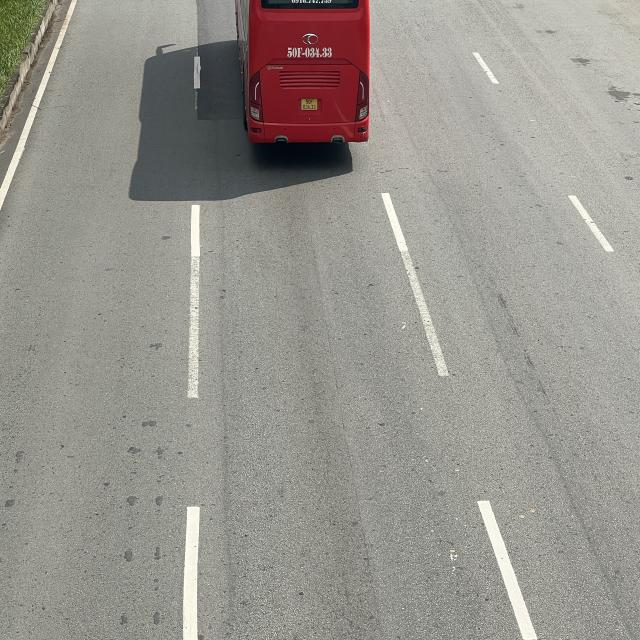coach: (233, 0, 371, 140)
